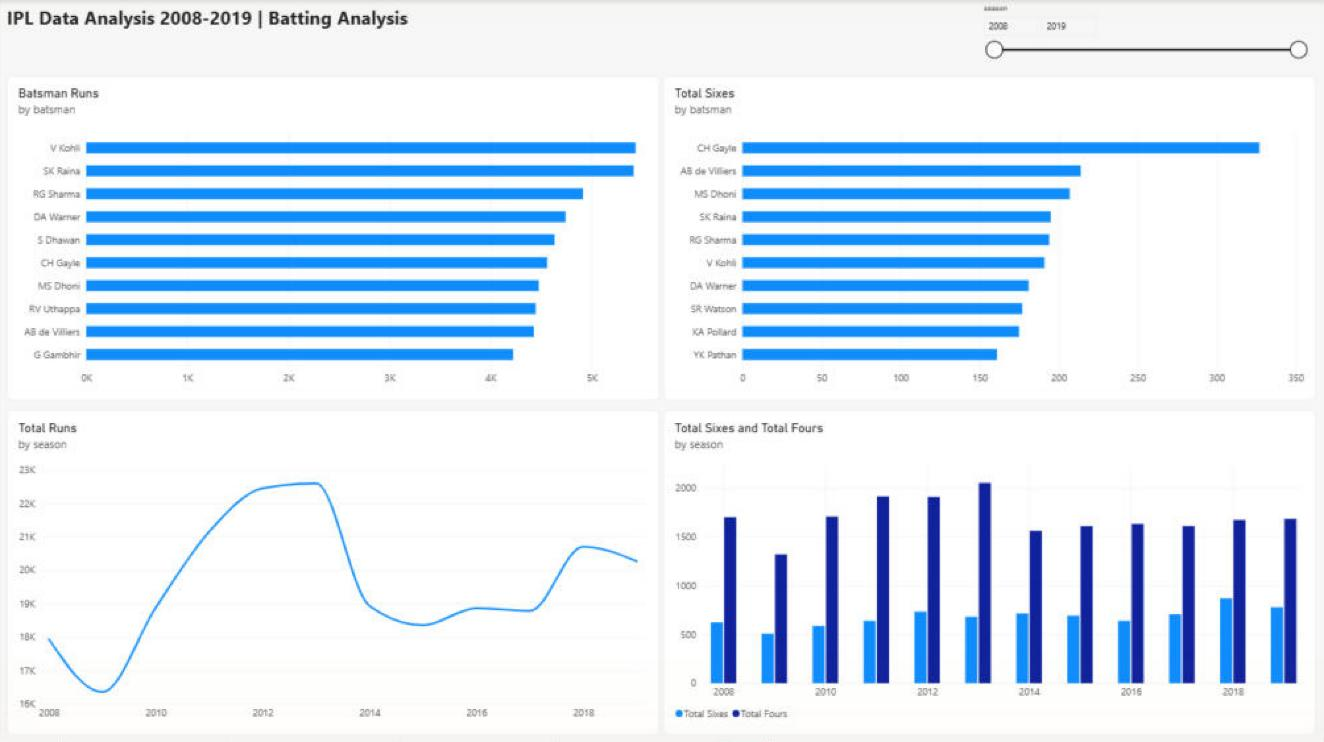

The page's visual inventory and layout, read from the dashboard file:
{"tool":"powerbi","page":{"name":"Batting Analysis","canvas":[1920,1080],"ordinal":2},"visuals":[{"type":"textbox","box":[15,8,820,60],"z":3000},{"type":"slicer","fields":{"Values":["matches.season"]},"box":[1420,5,480,95],"z":4000},{"type":"clusteredBarChart","fields":{"Category":["deliveries.batsman"],"Y":["matches.Batsman Runs"]},"box":[15,110,945,470],"z":4001},{"type":"clusteredBarChart","fields":{"Category":["deliveries.batsman"],"Y":["matches.Total Sixes"]},"box":[965,110,945,470],"z":4002},{"type":"lineChart","fields":{"Category":["matches.season"],"Y":["matches.Total Runs"]},"box":[15,595,945,470],"z":4003},{"type":"clusteredColumnChart","fields":{"Category":["matches.season"],"Y":["matches.Total Sixes","matches.Total Fours"]},"box":[965,595,945,470],"z":4004}]}

Visuals, with their boxes in screenshot pixels (x1, y1, x2, y2), scaled from the page's 1920x1080 canvas onto the 1324x742 screenshot:
textbox: left=10, top=5, right=576, bottom=47
slicer - matches.season: left=979, top=3, right=1310, bottom=69
clusteredBarChart - deliveries.batsman x matches.Batsman Runs: left=10, top=76, right=662, bottom=398
clusteredBarChart - deliveries.batsman x matches.Total Sixes: left=665, top=76, right=1317, bottom=398
lineChart - matches.season x matches.Total Runs: left=10, top=409, right=662, bottom=732
clusteredColumnChart - matches.season x matches.Total Sixes: left=665, top=409, right=1317, bottom=732
